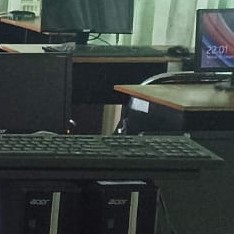monitor: (140, 8, 234, 86), (40, 0, 134, 35), (193, 8, 234, 73)
